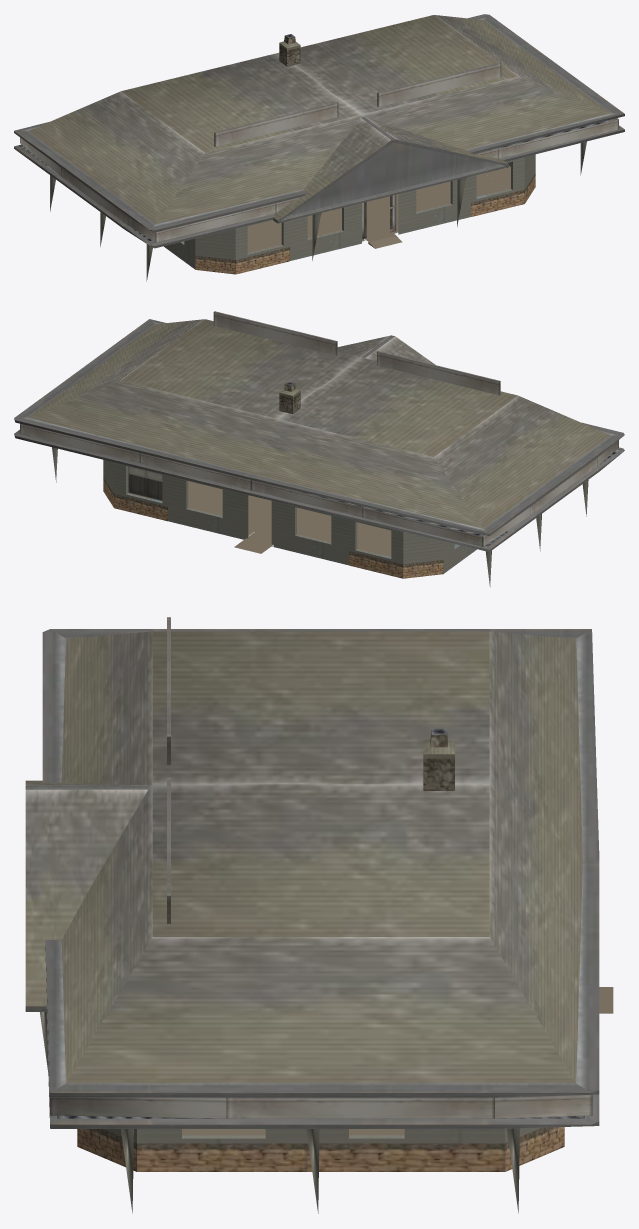
File: rural-wood-4.gaps-v1.lod1.glb
3 renders of one model, top to bottom at view 1: azimuth 30°, elevation 25°; view 2: azimuth 150°, elevation 25°; view 3: azimuth 270°, elevation 25°, orthographic. The views are drawn at different scales.
Visible parts, largest first — view 1: Rural_WoodenBuilding_4_Rural_Housetrim_1_0, Rural_WoodenBuilding_4_Rural_Walltrim_1_0, Rural_WoodenBuilding_4_Rural_Facade_FLR_2_0, Walkable floors and stairs; view 2: Rural_WoodenBuilding_4_Rural_Housetrim_1_0, Rural_WoodenBuilding_4_Rural_Facade_FLR_2_0, Rural_WoodenBuilding_4_Rural_Walltrim_1_0, Walkable floors and stairs; view 3: Rural_WoodenBuilding_4_Rural_Housetrim_1_0, Rural_WoodenBuilding_4_Rural_Facade_FLR_2_0, Rural_WoodenBuilding_4_Rural_Walltrim_1_0, Walkable floors and stairs.
Part boxes in pixels (<box>): Rural_WoodenBuilding_4_Rural_Housetrim_1_0: <box>14,14,624,274</box>; Rural_WoodenBuilding_4_Rural_Walltrim_1_0: <box>50,140,586,281</box>; Rural_WoodenBuilding_4_Rural_Facade_FLR_2_0: <box>20,62,618,242</box>; Walkable floors and stairs: <box>247,166,510,252</box>; Rural_WoodenBuilding_4_Rural_Housetrim_1_0: <box>14,319,624,578</box>; Rural_WoodenBuilding_4_Rural_Facade_FLR_2_0: <box>20,311,618,546</box>; Rural_WoodenBuilding_4_Rural_Walltrim_1_0: <box>52,447,588,587</box>; Walkable floors and stairs: <box>188,481,456,556</box>; Rural_WoodenBuilding_4_Rural_Housetrim_1_0: <box>25,629,599,1171</box>; Rural_WoodenBuilding_4_Rural_Facade_FLR_2_0: <box>49,617,592,1118</box>; Rural_WoodenBuilding_4_Rural_Walltrim_1_0: <box>40,1012,540,1213</box>; Walkable floors and stairs: <box>182,1129,404,1135</box>.
Size of the model in its own units: 27.73 by 7.64 by 14.85.
6 materials, 3 textured.
